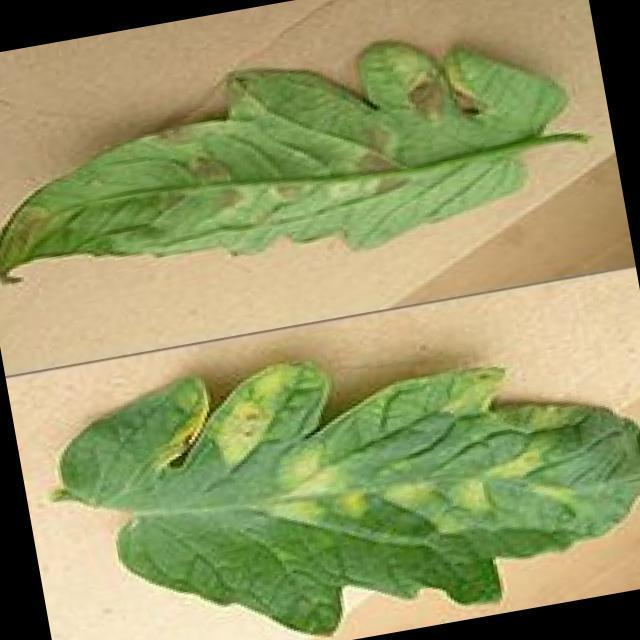Mosaic Virus: (108, 300, 636, 600), (0, 27, 569, 301)
